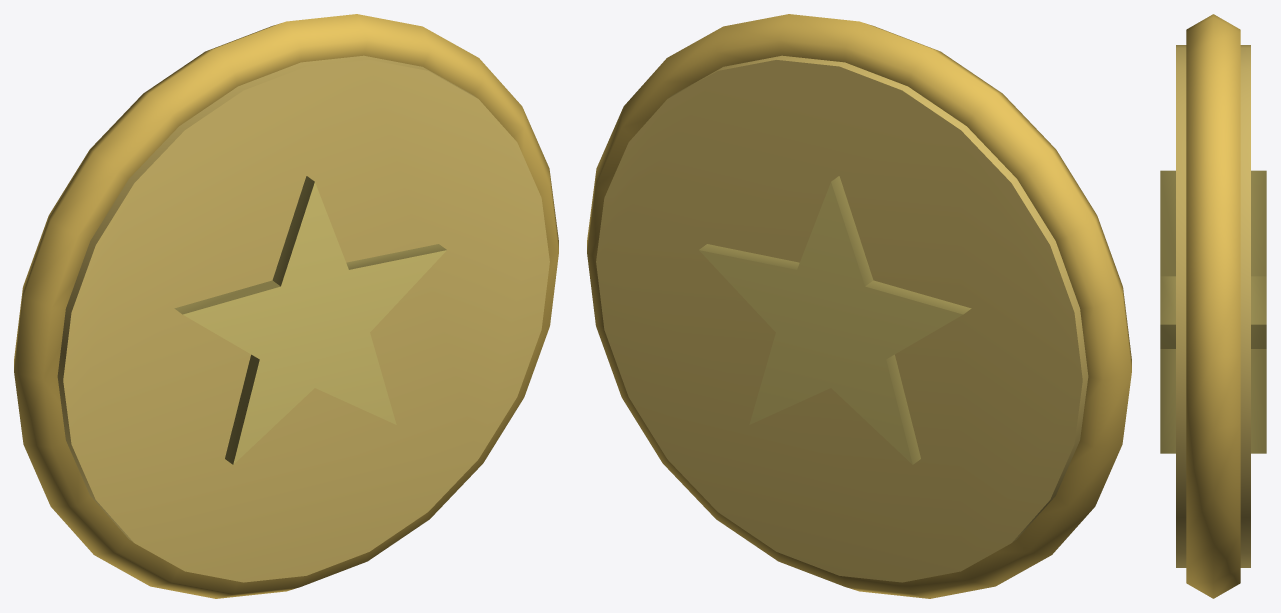
Rendered from Coin.fbx.
The picture shows the model from 3 angles, left to right: view 1: azimuth 30°, elevation 25°; view 2: azimuth 150°, elevation 25°; view 3: azimuth 270°, elevation 25°; orthographic projection. The views are drawn at different scales.
Parts seen in each view (by area): view 1: Coin; view 2: Coin; view 3: Coin.
Part boxes in pixels (bbox=[...]): Coin: bbox=[14, 14, 558, 598]; Coin: bbox=[587, 14, 1131, 598]; Coin: bbox=[1160, 14, 1266, 598].
Bounding box in the file's own units: 0.94 × 0.94 × 0.17.
